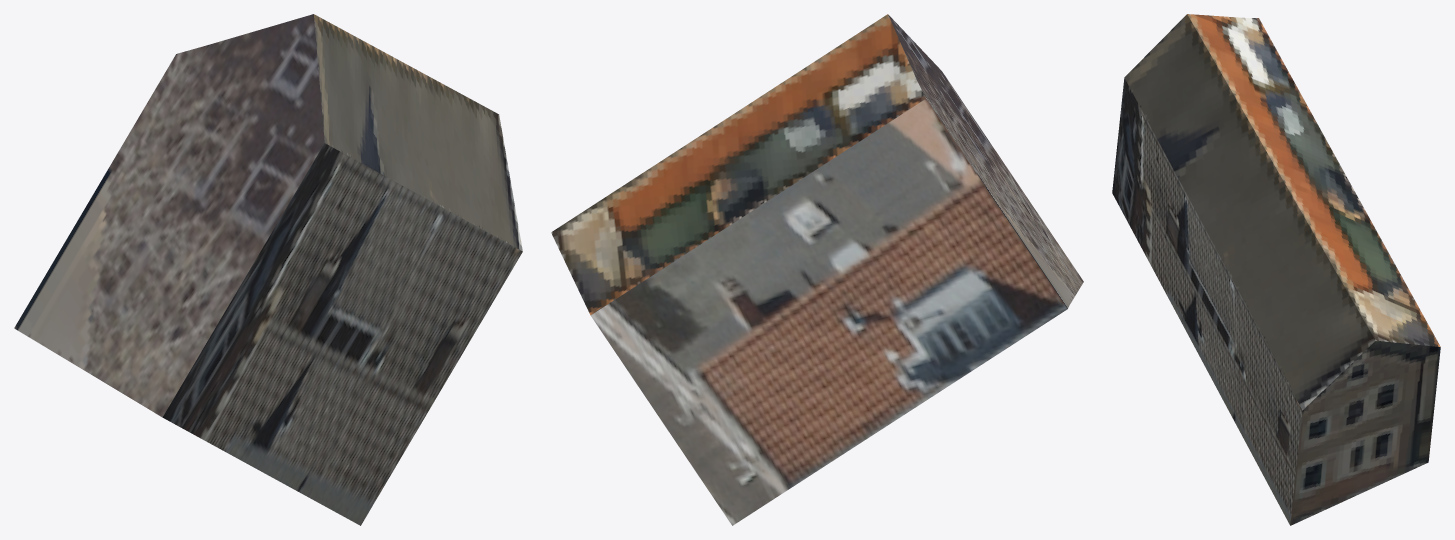
The picture shows the model from 3 angles, left to right: view 1: azimuth 30°, elevation 25°; view 2: azimuth 150°, elevation 25°; view 3: azimuth 270°, elevation 25°; orthographic projection. The views are drawn at different scales.
Visible parts, largest first — view 1: BAG_0599100000656923 (×3); view 2: BAG_0599100000656923 (×3); view 3: BAG_0599100000656923 (×3).
Part boxes in pixels (box(x1,y1,x2,y2)): BAG_0599100000656923 (×3): box(14, 14, 522, 525); BAG_0599100000656923 (×3): box(551, 14, 1083, 525); BAG_0599100000656923 (×3): box(1112, 14, 1440, 525).
Bounding box in the file's own units: 15.77 × 15.62 × 9.93.
3 materials, 3 textured.
